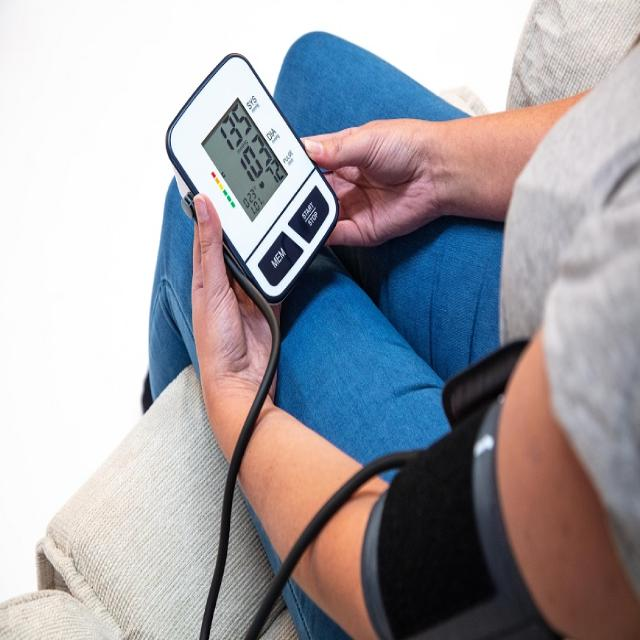dia: (228, 131, 280, 185)
pul: (259, 158, 291, 190)
ssd: (191, 98, 299, 222)
sys: (206, 95, 261, 156)
